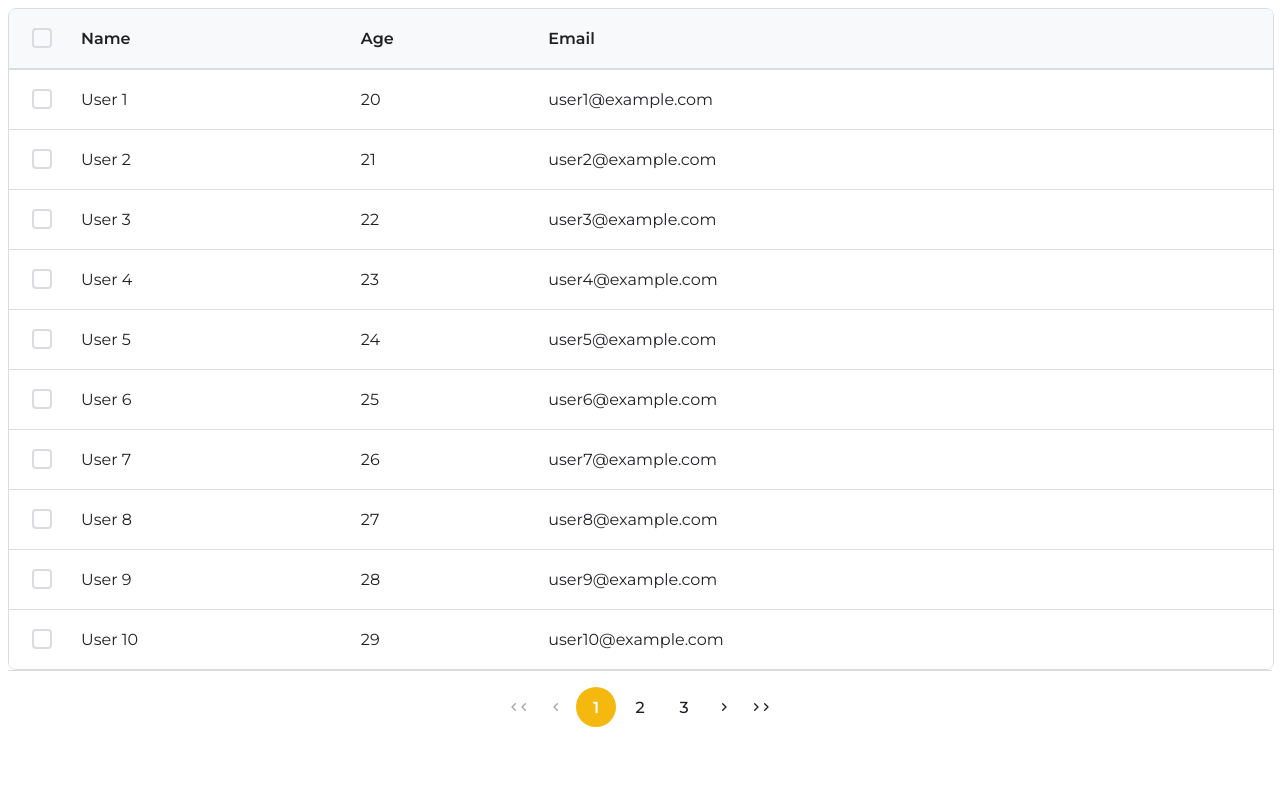
Test case: Table › Pagination › maintains selection across pages
The width and height of the screenshot is (1280, 800).
Note: Select first row on page 1
Click the checkbox named "Select row 1": (42, 99) [32, 89, 52, 109]
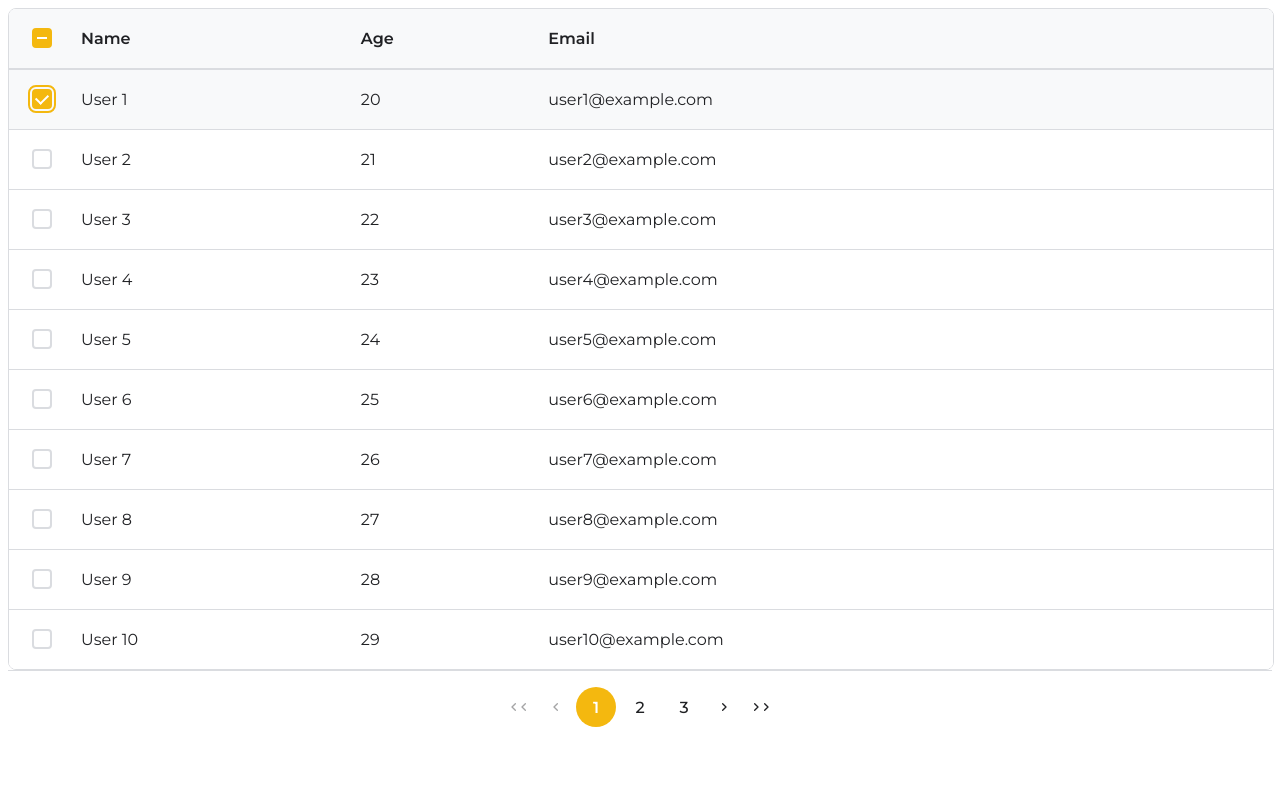
Note: Go to next page - selection should be maintained
Click the button named "Next page": (724, 707) [712, 695, 736, 719]
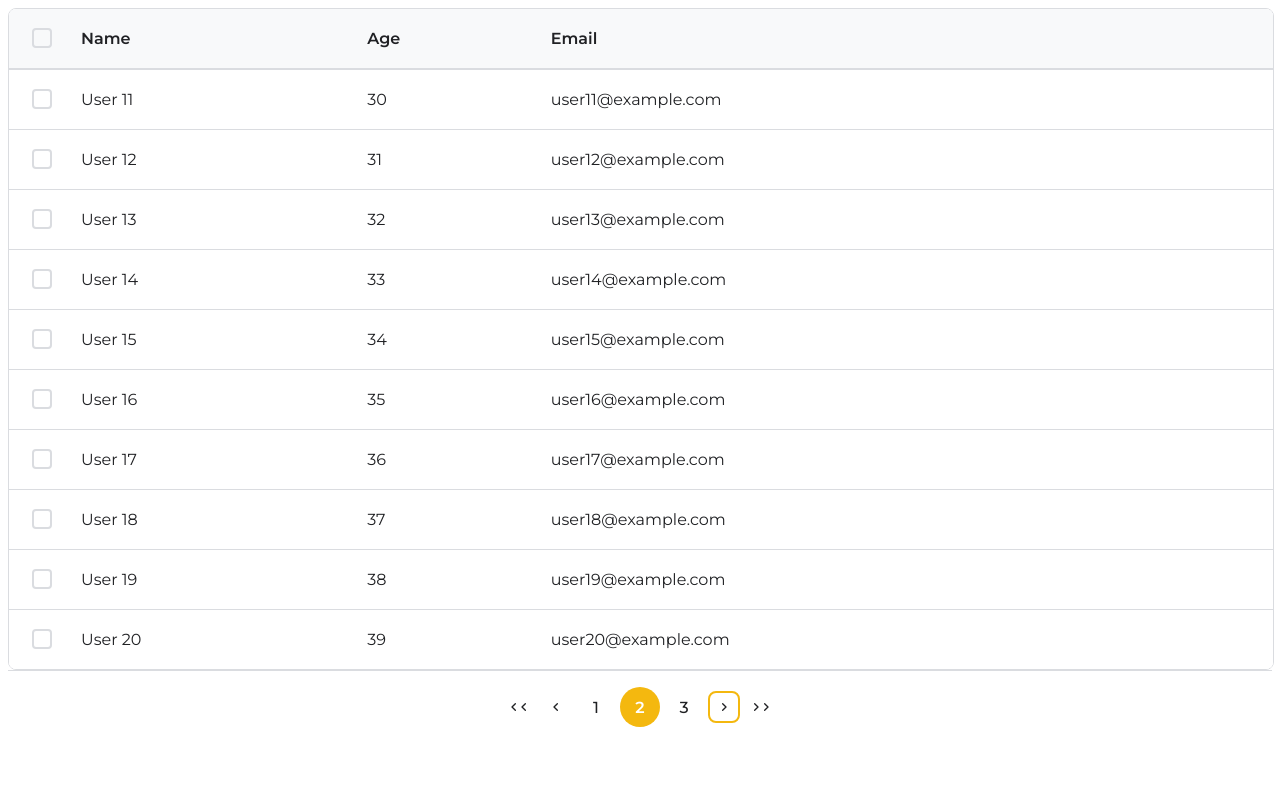
Expected: the checkbox named "Select row 1" is not checked, [32, 89, 52, 109]
